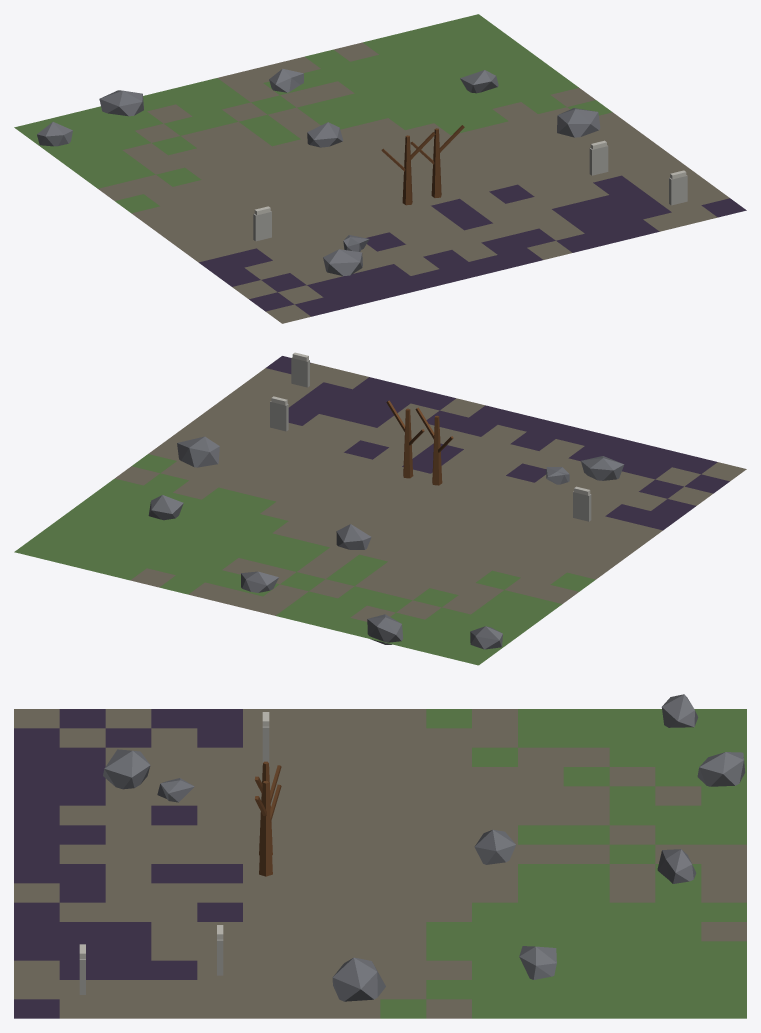
The model's file is chunk_2_22.glb.
The picture shows the model from 3 angles, top to bottom: view 1: azimuth 30°, elevation 25°; view 2: azimuth 150°, elevation 25°; view 3: azimuth 270°, elevation 25°; orthographic projection. The views are drawn at different scales.
Visible parts, largest first — view 1: chunk_2_22; view 2: chunk_2_22; view 3: chunk_2_22.
Boxes of the visible parts, x1,y1,x2,y2 form: chunk_2_22: (14,14,746,323); chunk_2_22: (14,352,746,665); chunk_2_22: (14,694,746,1018).
Size of the model in its own units: 16 by 2.73 by 16.
